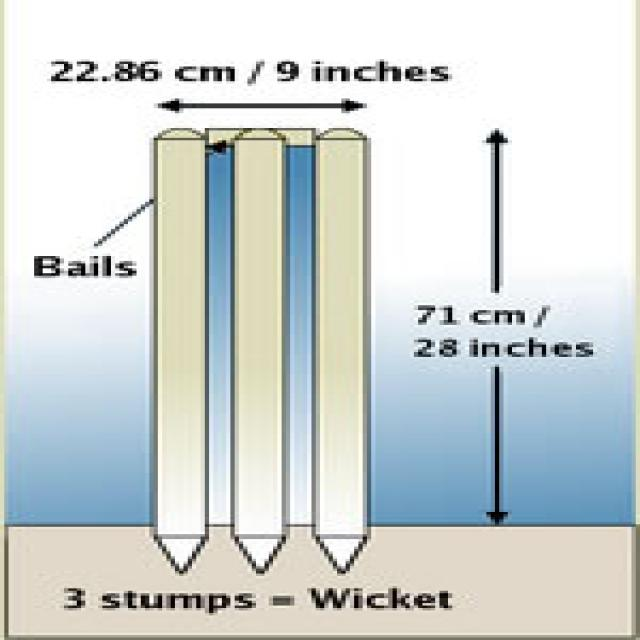stump: (156, 123, 372, 578)
